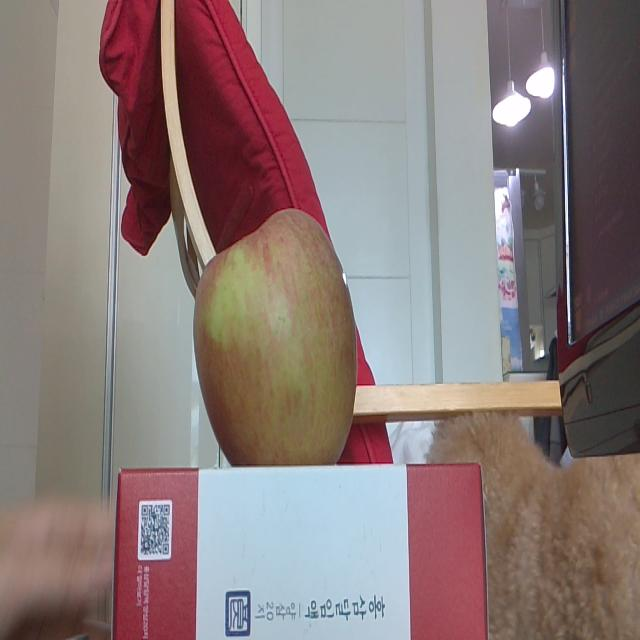apple: (194, 208, 357, 464)
